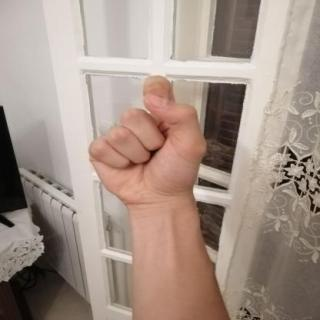FAA: (72, 68, 222, 212)
